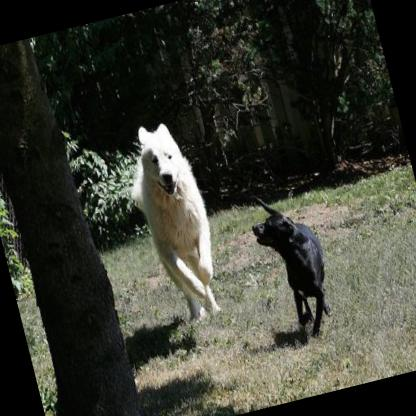Great_Pyrenees: (114, 113, 233, 334)
